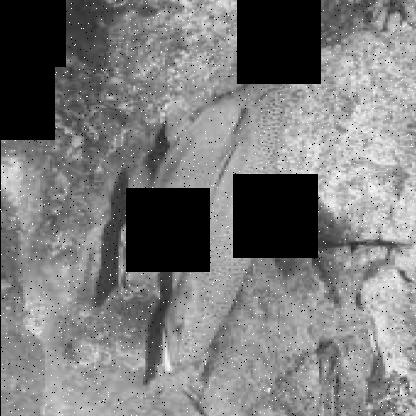fish: (117, 54, 320, 300), (159, 77, 291, 375)
